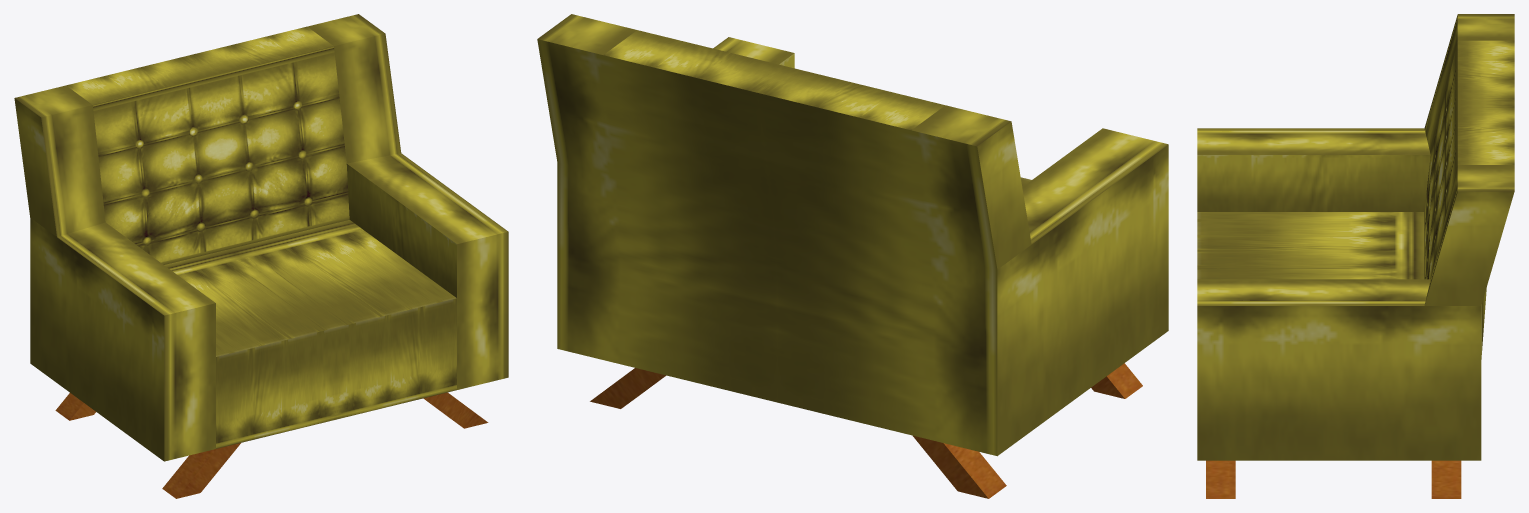
File: sofa_chair.fbx
3 renders of one model, left to right at view 1: azimuth 30°, elevation 25°; view 2: azimuth 150°, elevation 25°; view 3: azimuth 270°, elevation 25°, orthographic. The views are drawn at different scales.
Visible parts, largest first — view 1: sofa_chair; view 2: sofa_chair; view 3: sofa_chair.
Boxes of the visible parts, x1,y1,x2,y2 form: sofa_chair: (14, 14, 508, 498); sofa_chair: (537, 14, 1168, 498); sofa_chair: (1197, 14, 1514, 498).
Bounding box in the file's own units: 133 × 110 × 101.
Materials: 1 (1 with a texture image).
